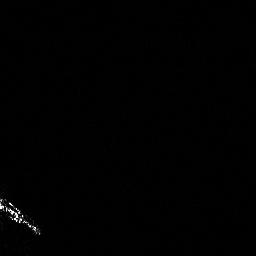ship: (1, 197, 41, 234)
